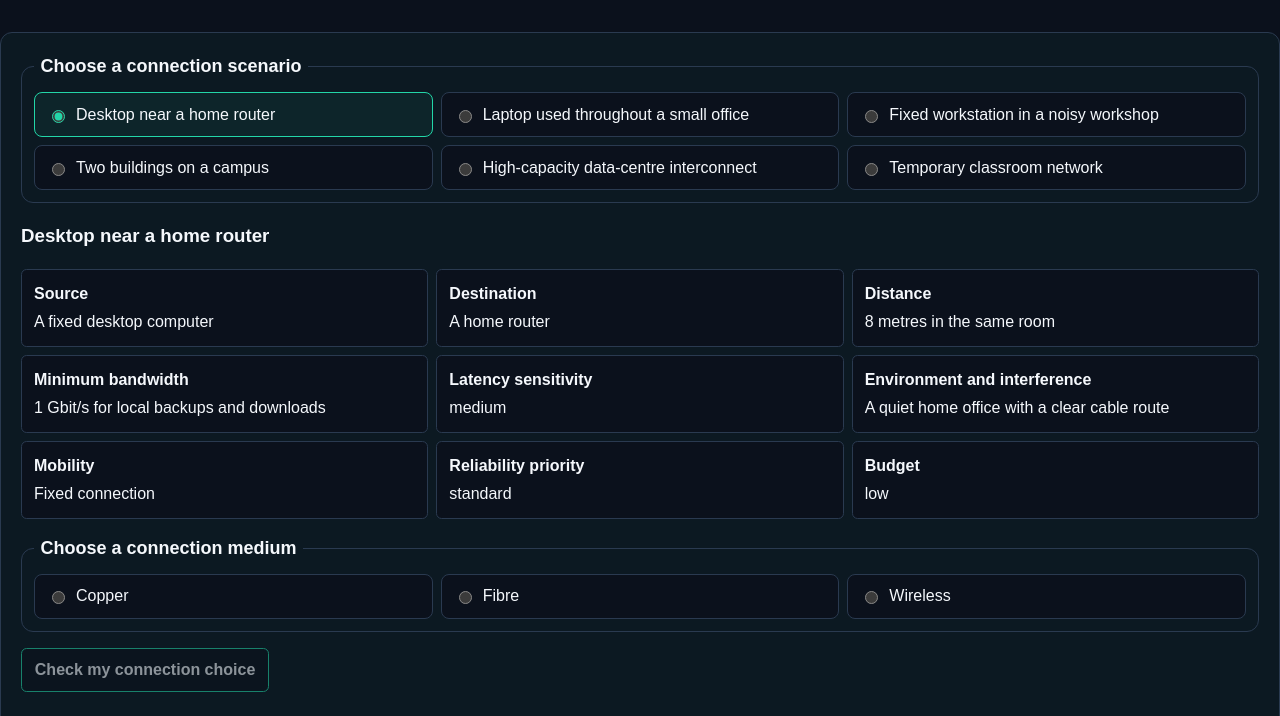
Test: ConnectionMediaLab › starts with the first scenario and readable requirements, awaiting an explicit choice and submission
Expected: the radio button labelled "Desktop near a home router" is checked, x1=52 y1=110 x2=65 y2=123
Expected: the text "A fixed desktop computer" is shown, x1=34 y1=313 x2=214 y2=330
Click the radio button labelled "Wireless": (872, 598) x1=865 y1=592 x2=878 y2=604
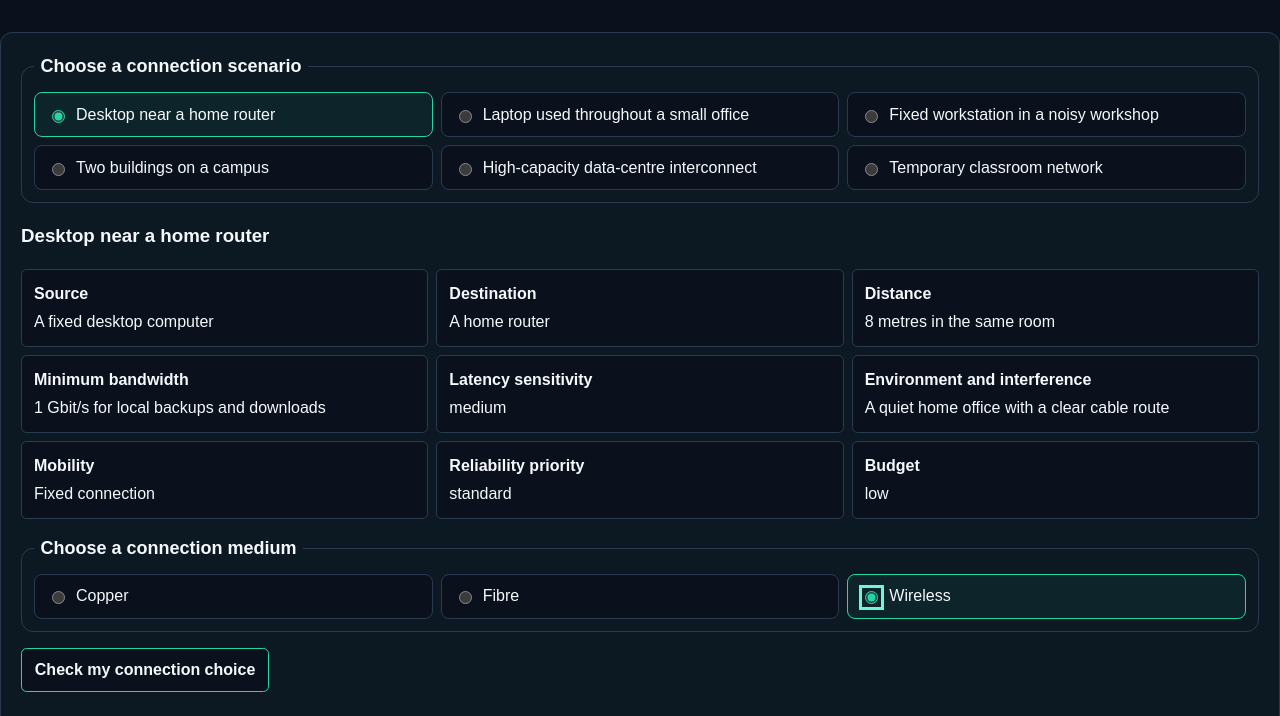
Result: the button "Check my connection choice" is enabled at x1=21 y1=648 x2=269 y2=692
